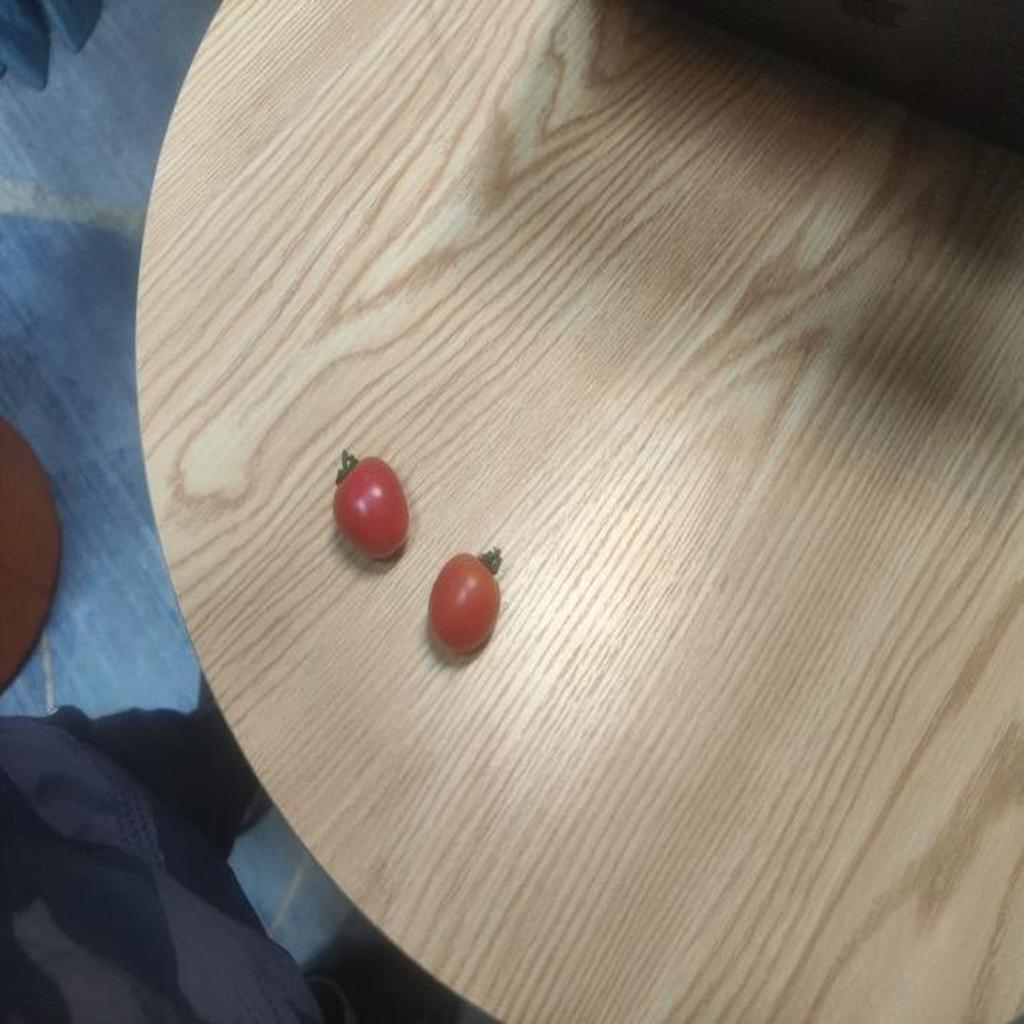tomato: (322, 456, 412, 560), (430, 550, 506, 655)
